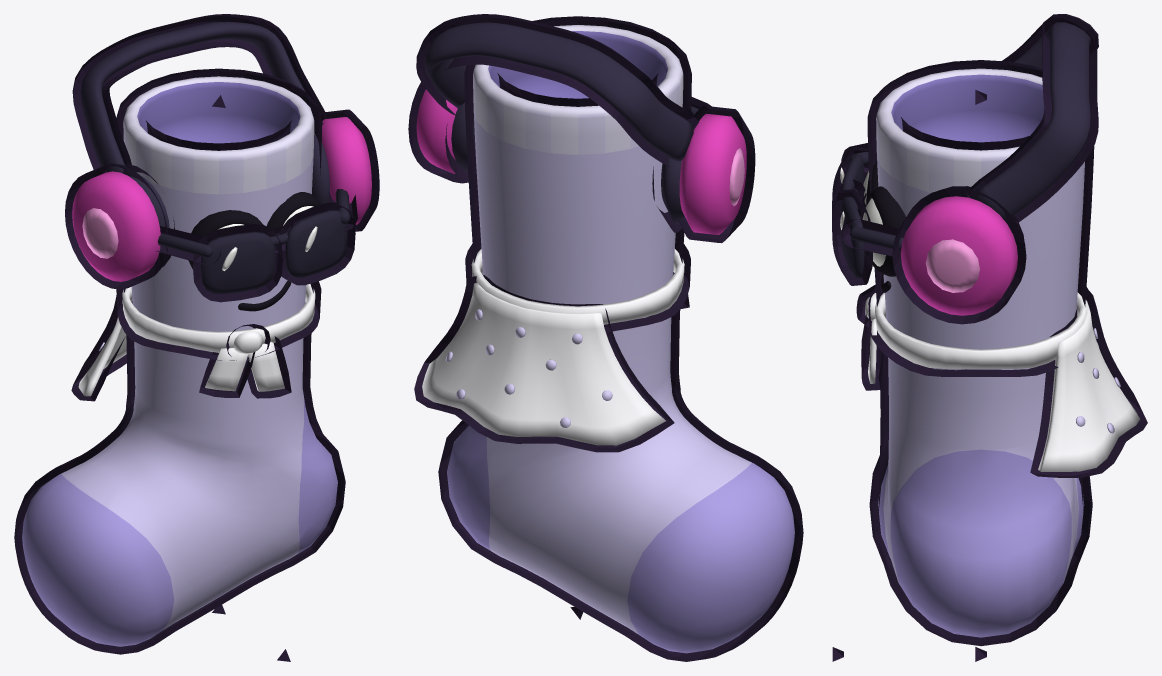
Rendered from DJDryer_L.glb.
The picture shows the model from 3 angles, left to right: view 1: azimuth 30°, elevation 25°; view 2: azimuth 150°, elevation 25°; view 3: azimuth 270°, elevation 25°; orthographic projection. The views are drawn at different scales.
Parts seen in each view (by area): view 1: DJDryer_L, DJDryer_L_Outline; view 2: DJDryer_L, DJDryer_L_Outline; view 3: DJDryer_L, DJDryer_L_Outline.
Part boxes in pixels (box(x1,y1,x2,y2)): DJDryer_L: box(22, 21, 371, 646); DJDryer_L_Outline: box(14, 14, 379, 654); DJDryer_L: box(416, 22, 794, 653); DJDryer_L_Outline: box(408, 14, 803, 661); DJDryer_L: box(840, 22, 1140, 637); DJDryer_L_Outline: box(832, 14, 1147, 646).
Bounding box in the file's own units: 2.95 × 4.79 × 2.21.
Materials: 1 (1 with a texture image).
